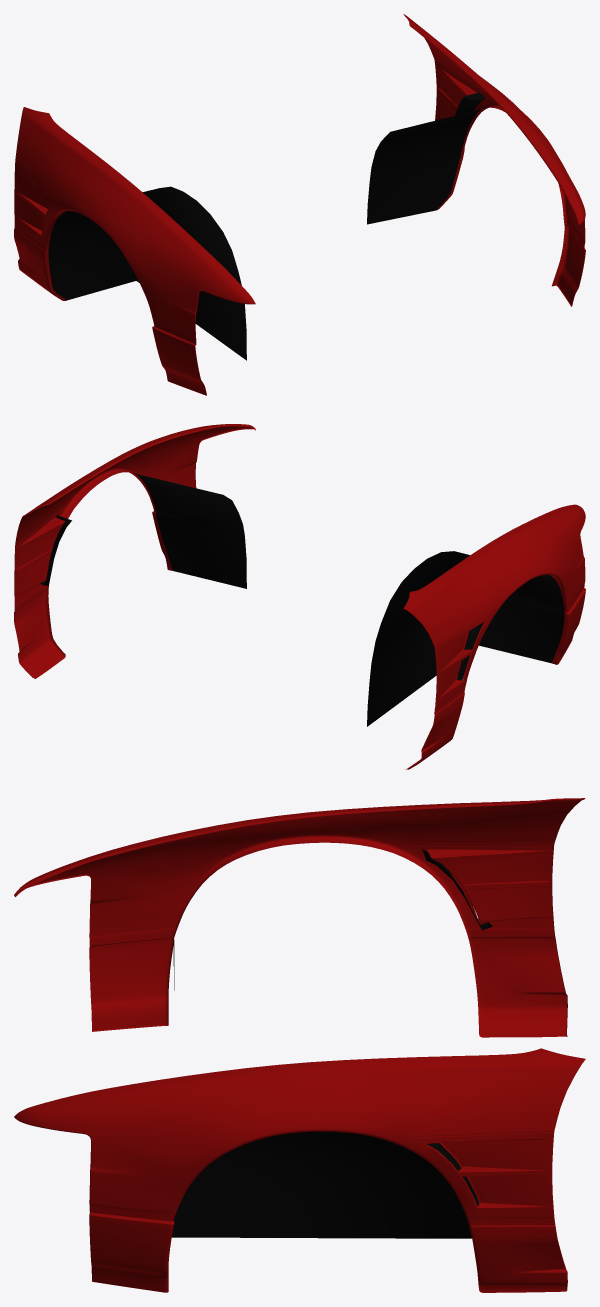
Rendered from frontfenders_originlabofujin.glb.
3 renders of one model, top to bottom at view 1: azimuth 30°, elevation 25°; view 2: azimuth 150°, elevation 25°; view 3: azimuth 270°, elevation 25°, orthographic. The views are drawn at different scales.
Parts seen in each view (by area): view 1: Fender, Undercarriage; view 2: Fender, Undercarriage, Cover; view 3: Fender, Undercarriage, Cover.
Part boxes in pixels (bbox=[...]): Fender: bbox=[14, 14, 585, 395]; Undercarriage: bbox=[48, 108, 483, 360]; Fender: bbox=[14, 424, 585, 769]; Undercarriage: bbox=[133, 473, 564, 726]; Cover: bbox=[40, 515, 483, 680]; Fender: bbox=[14, 798, 585, 1292]; Undercarriage: bbox=[172, 940, 471, 1238]; Cover: bbox=[422, 849, 492, 1206].
Size of the model in its own units: 1.72 by 0.6539 by 1.41.
